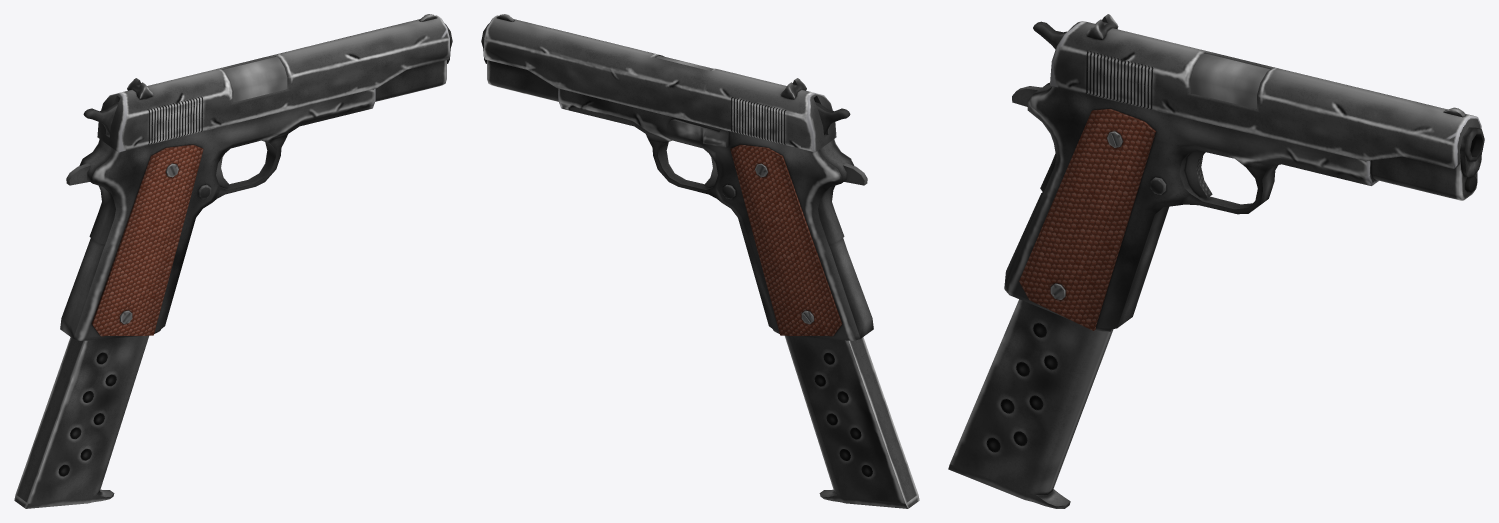
File: pistol2_000028.obj
The picture shows the model from 3 angles, left to right: view 1: azimuth 30°, elevation 25°; view 2: azimuth 150°, elevation 25°; view 3: azimuth 330°, elevation 25°; orthographic projection. The views are drawn at different scales.
Parts seen in each view (by area): view 1: M1911_Body_Cube.000, M1911_Slider_Cube.002, M1911_Magazine_Cube.003; view 2: M1911_Body_Cube.000, M1911_Slider_Cube.002, M1911_Magazine_Cube.003; view 3: M1911_Body_Cube.000, M1911_Slider_Cube.002, M1911_Magazine_Cube.003, M1911_Trigger_Cube.004.
Boxes of the visible parts, x1,y1,x2,y2 form: M1911_Body_Cube.000: (60,24,452,340); M1911_Slider_Cube.002: (97,14,449,152); M1911_Magazine_Cube.003: (14,335,148,508); M1911_Body_Cube.000: (481,24,873,340); M1911_Slider_Cube.002: (484,14,836,152); M1911_Magazine_Cube.003: (785,335,919,508); M1911_Body_Cube.000: (1004,53,1484,331); M1911_Slider_Cube.002: (1050,14,1481,168); M1911_Magazine_Cube.003: (948,299,1113,508); M1911_Trigger_Cube.004: (1184,150,1212,197).
Bounding box in the file's own units: 0.787 × 0.7179 × 0.0783.
